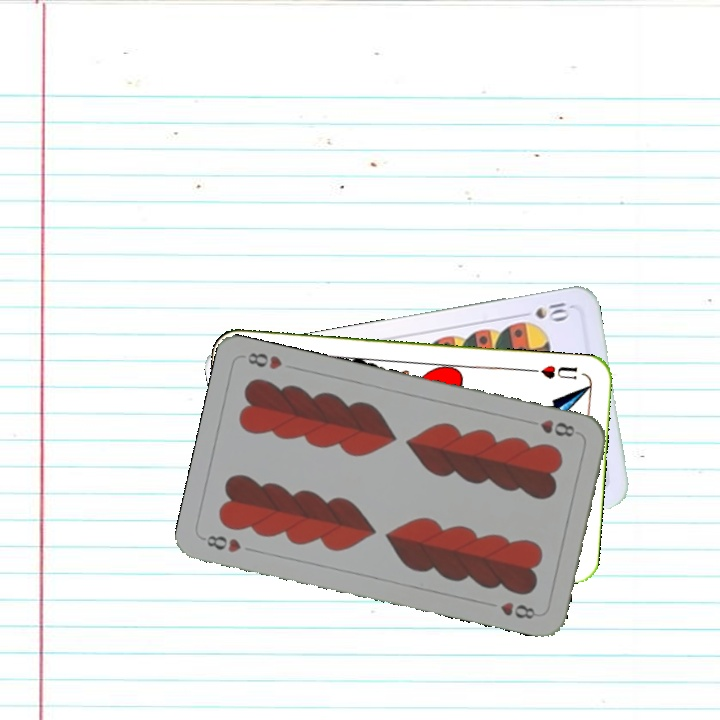H8: (523, 415, 582, 440), (199, 531, 244, 555)
HU: (537, 361, 580, 382)
S10: (515, 298, 572, 324)
